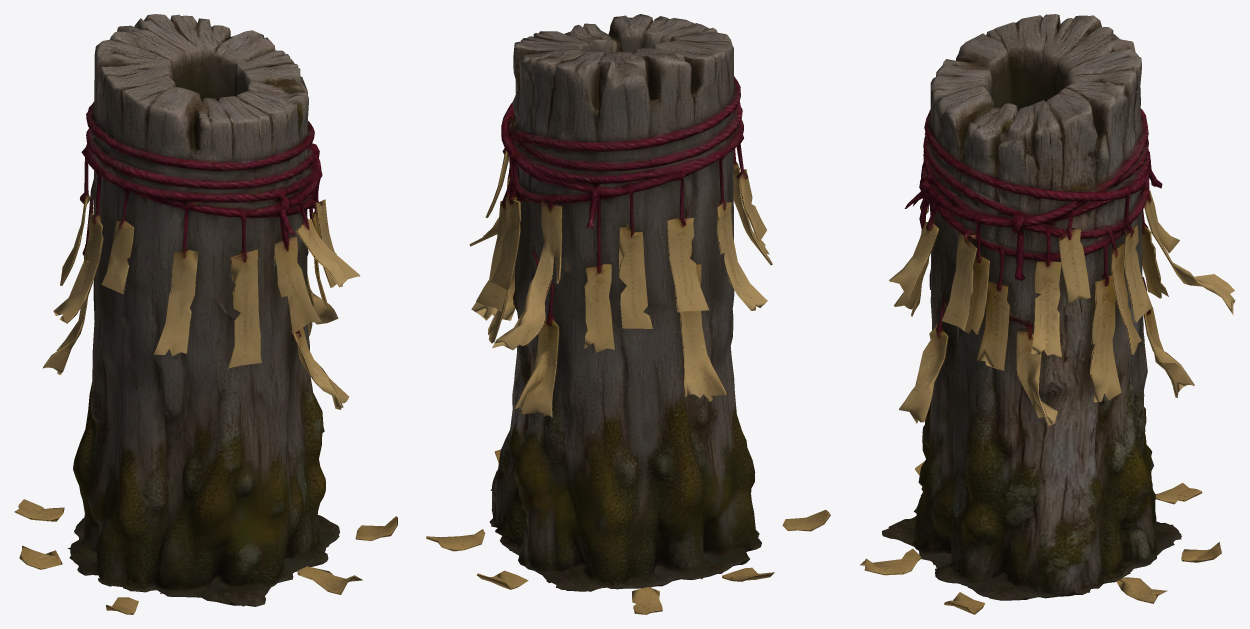
3 views of the same model, side by side, from view 1: azimuth 30°, elevation 25°; view 2: azimuth 150°, elevation 25°; view 3: azimuth 270°, elevation 25° (orthographic). The views are drawn at different scales.
Visible parts, largest first — view 1: tripo_node_cd184371-1dd6-4251-a9ba-4d506b22c727; view 2: tripo_node_cd184371-1dd6-4251-a9ba-4d506b22c727; view 3: tripo_node_cd184371-1dd6-4251-a9ba-4d506b22c727.
Boxes of the visible parts, x1=… form: tripo_node_cd184371-1dd6-4251-a9ba-4d506b22c727: x1=14, y1=14, x2=397, y2=614; tripo_node_cd184371-1dd6-4251-a9ba-4d506b22c727: x1=426, y1=14, x2=830, y2=614; tripo_node_cd184371-1dd6-4251-a9ba-4d506b22c727: x1=860, y1=14, x2=1235, y2=614.
Size of the model in its own units: 0.6837 by 1 by 0.6895.
1 material, 1 textured.
